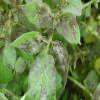Potato leaf late blight: (10, 31, 70, 99), (17, 0, 55, 31), (59, 11, 82, 46)
